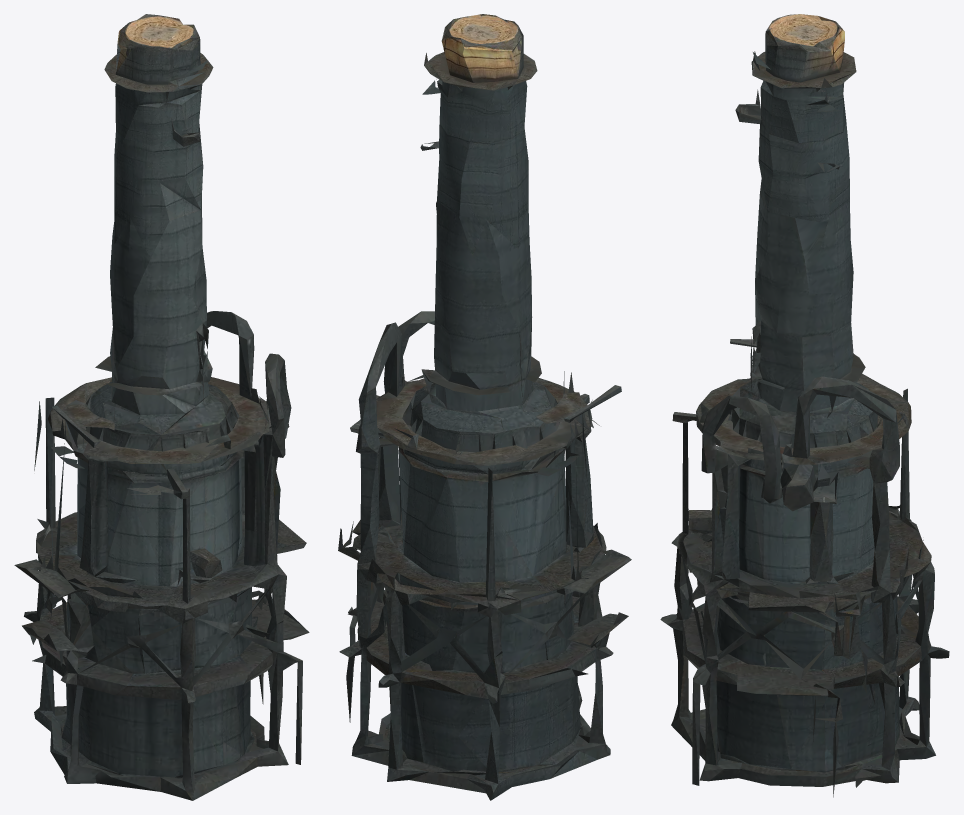
Rendered from the_pillar.glb.
3 renders of one model, left to right at view 1: azimuth 30°, elevation 25°; view 2: azimuth 150°, elevation 25°; view 3: azimuth 270°, elevation 25°, orthographic.
Size of the model in its own units: 25.34 by 70 by 25.57.
Materials: 1 (1 with a texture image).
